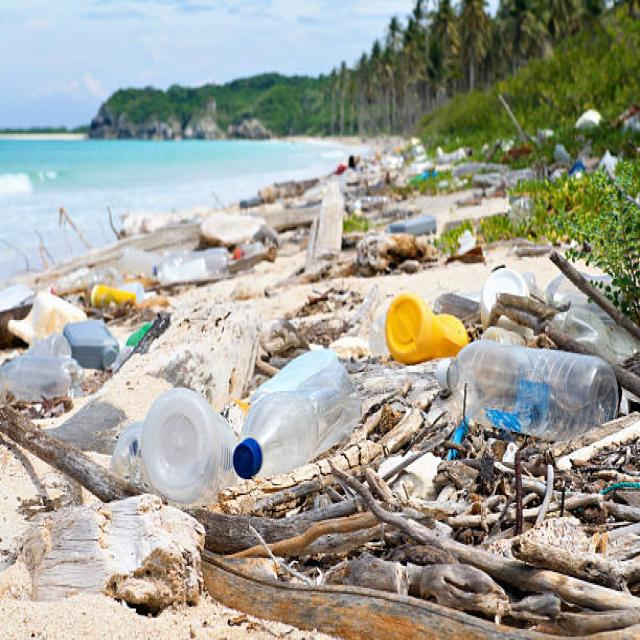plastic: (436, 350, 613, 451), (1, 257, 143, 380), (231, 366, 369, 482), (108, 399, 222, 522), (150, 243, 268, 288), (376, 289, 470, 345)
